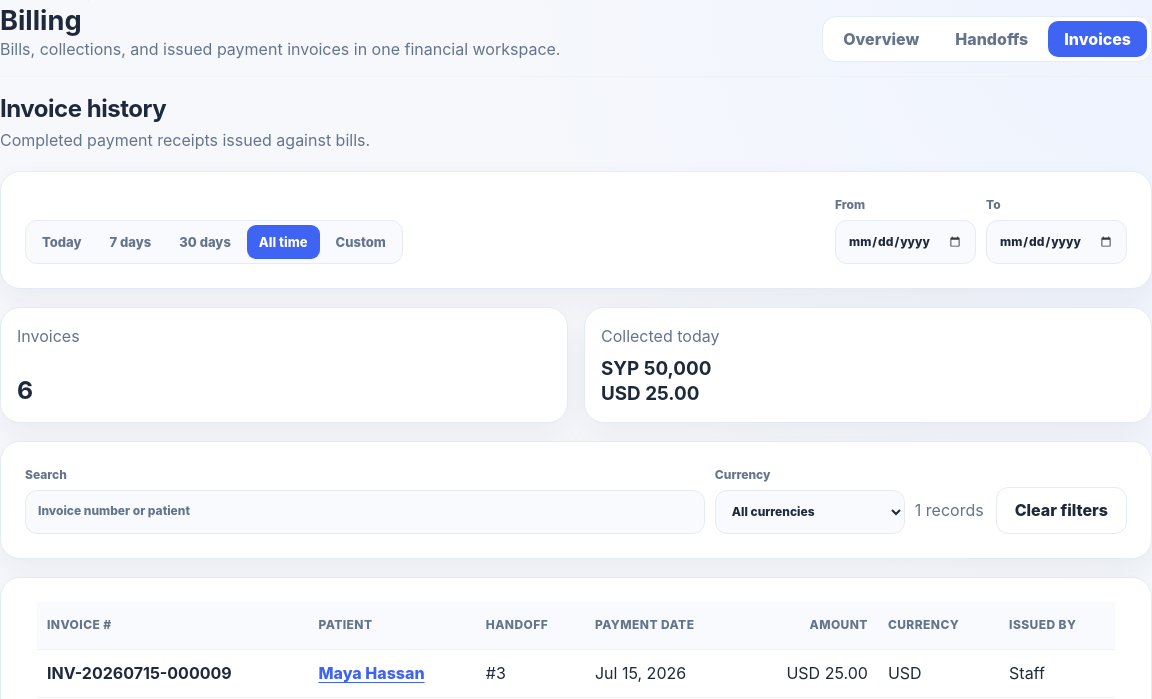
billing overview and invoice history › filters immutable invoice receipts by clinic date, search, and currency
This screenshot has width=1152, height=699.
expect the text "INV-20260715-000009" is shown: met, box [47,663,232,683]
Type "Maya" into the search field labelled "Search" at (365, 512), box [25,490,705,534]
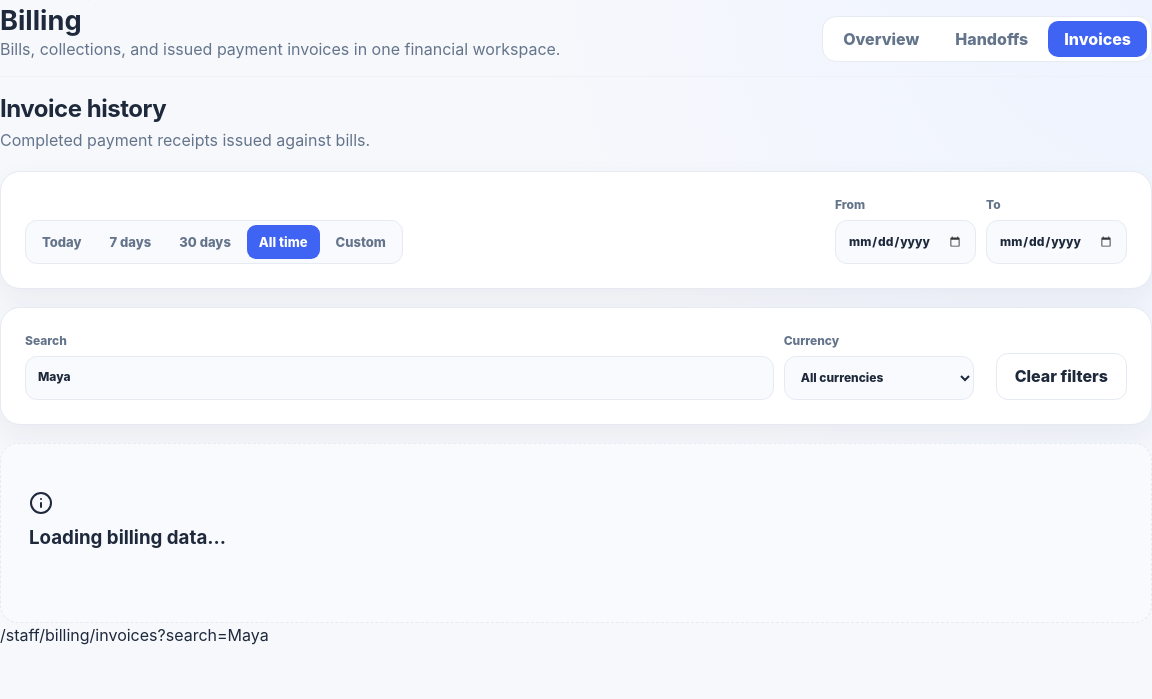
Select "USD" in the dropdown labelled "Currency" at (879, 378), box [784,356,974,400]
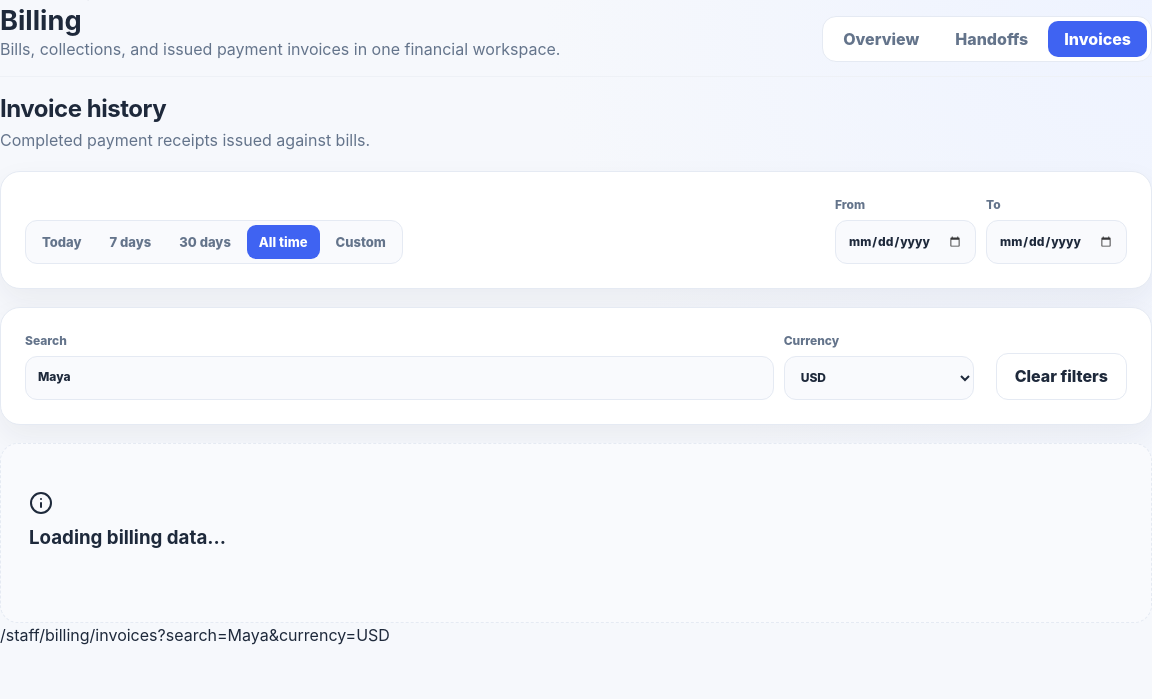
Type "2026-07-01" into the date field labelled "From" at (906, 242), box [835,220,976,264]
(page scrolled)
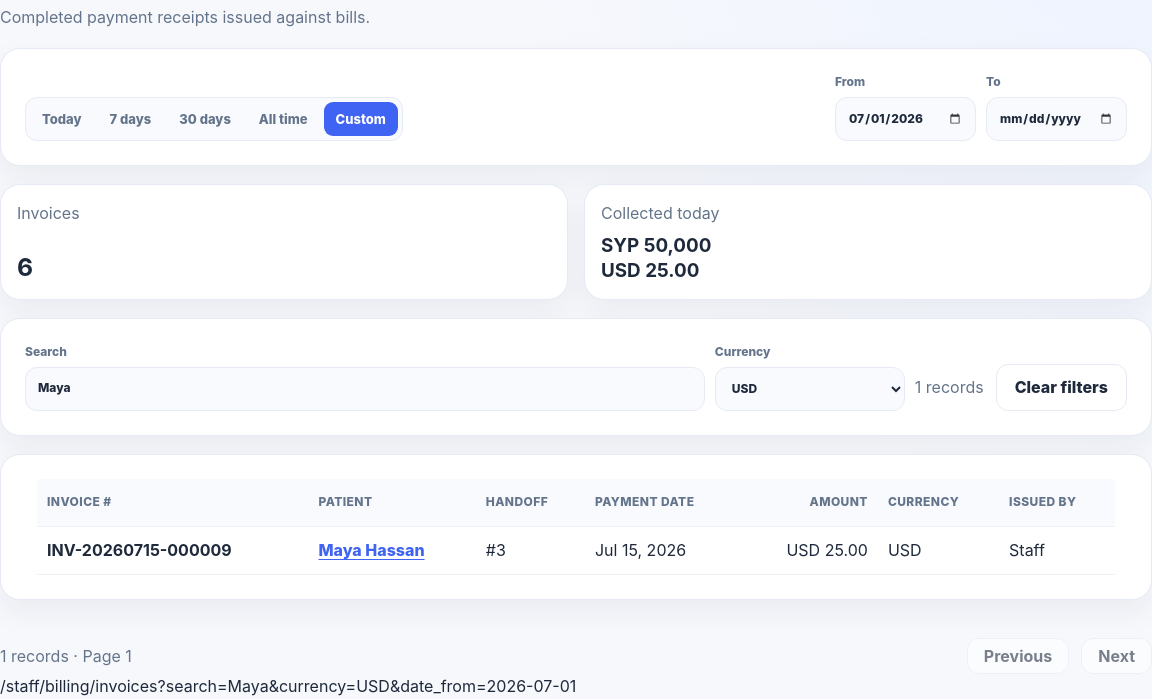
expect the text with test id "location" shows "search=Maya": met, box [158,676,576,696]
expect the text with test id "location" shows "currency=USD": met, box [158,676,576,696]
expect the text with test id "location" shows "date_from=2026-07-01": met, box [158,676,576,696]
